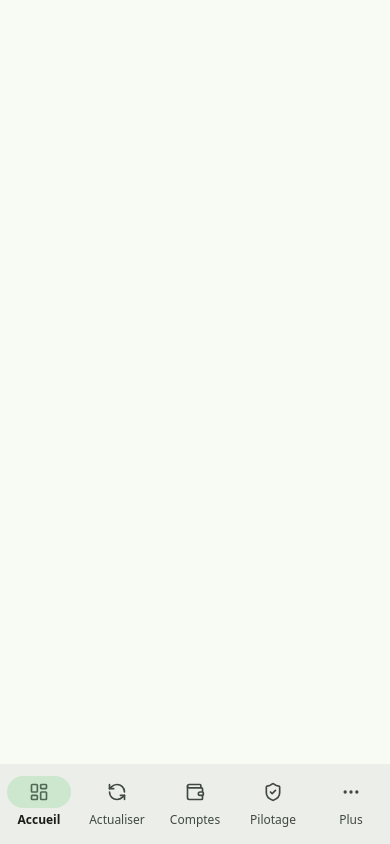
Test: BottomNav › « Plus » : ouvre la feuille et le dit aux lecteurs d’écran
Click the button "Plus" at point(351, 804), box top-left (312, 764), bottom-right (389, 843)
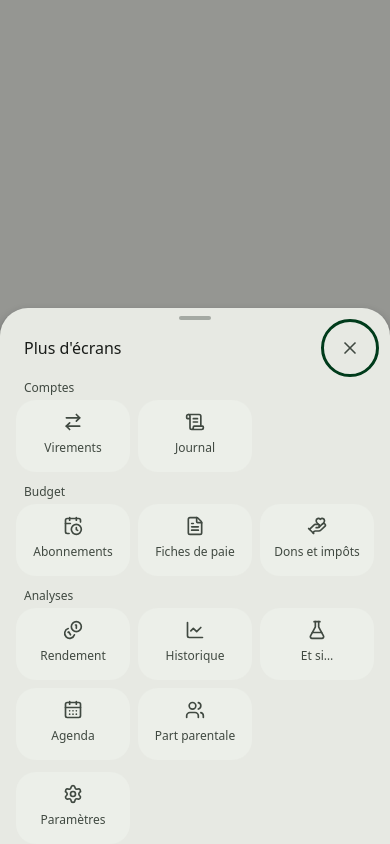
Result: the dialog "Plus d'écrans" is shown
